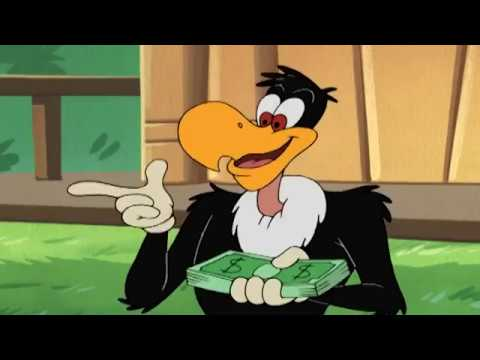urubu: (56, 48, 422, 313)
